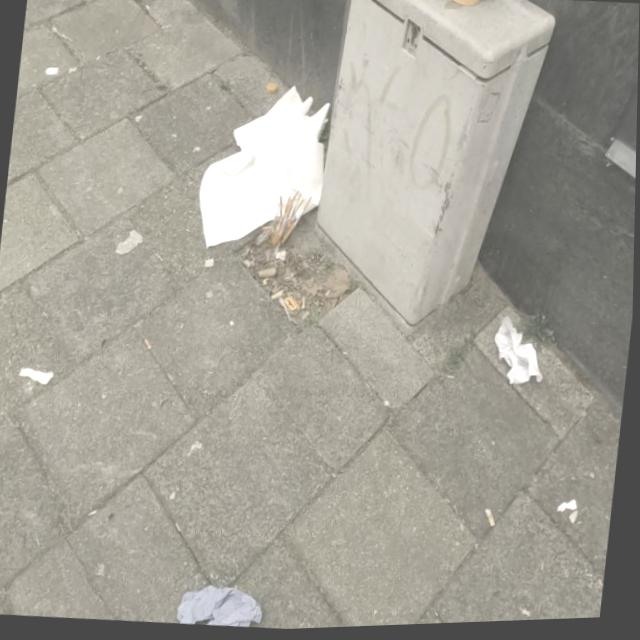Can-Metal: (445, 0, 487, 13)
Paper: (193, 78, 334, 260), (490, 316, 552, 393), (178, 581, 269, 632), (114, 226, 145, 259)
Plastic: (18, 365, 56, 387)
